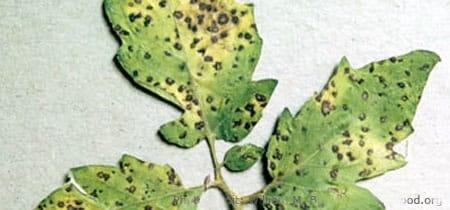Bacterial Spot: (256, 46, 443, 210), (97, 0, 281, 151), (31, 152, 204, 210)
